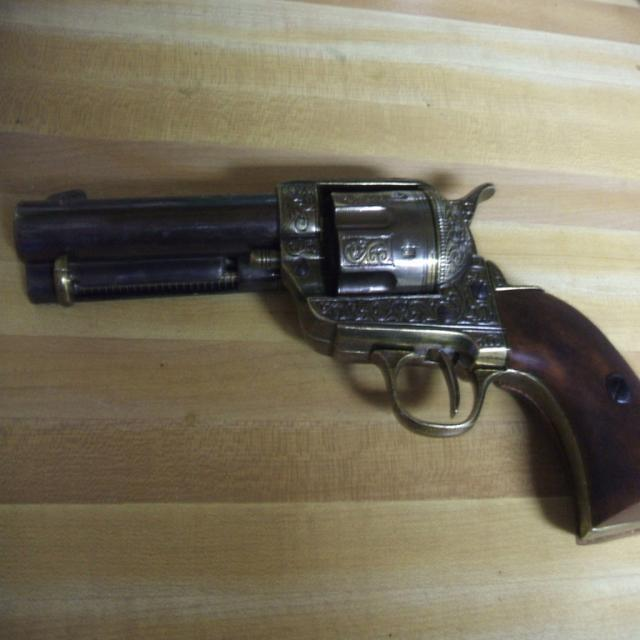Gun: (14, 179, 640, 543)
